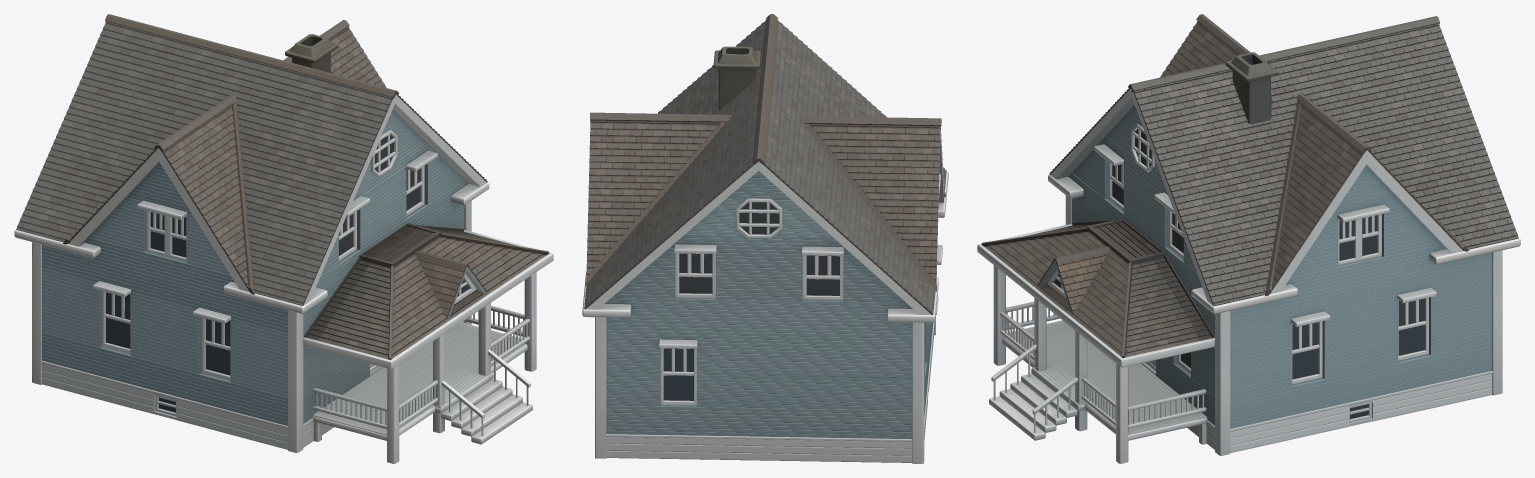
Rendered from home-v2.glb.
3 views of the same model, side by side, from view 1: azimuth 30°, elevation 25°; view 2: azimuth 150°, elevation 25°; view 3: azimuth 270°, elevation 25° (orthographic).
Visible parts, largest first — view 1: node_id115_1; view 2: node_id115_1; view 3: node_id115_1.
Part boxes in pixels (bbox=[...]): node_id115_1: bbox=[14, 14, 553, 463]; node_id115_1: bbox=[582, 14, 948, 463]; node_id115_1: bbox=[977, 14, 1520, 463].
Size of the model in its own units: 0.461 by 0.3312 by 0.5021.
Materials: 1 (1 with a texture image).
